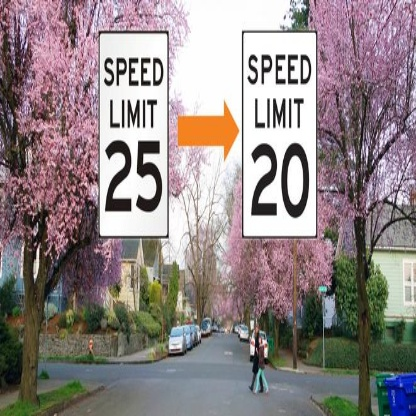limit1: (242, 30, 316, 239), (100, 32, 169, 238)
